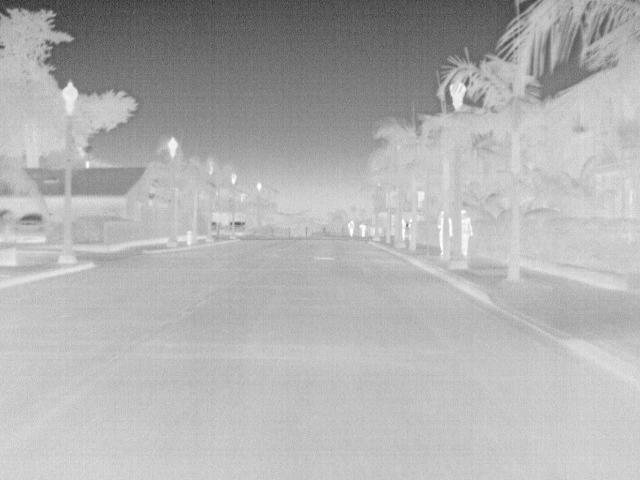car: (11, 212, 62, 243), (210, 220, 227, 236), (228, 222, 247, 236)
person: (459, 207, 475, 262), (433, 209, 446, 256), (346, 220, 358, 237), (357, 222, 369, 237)
